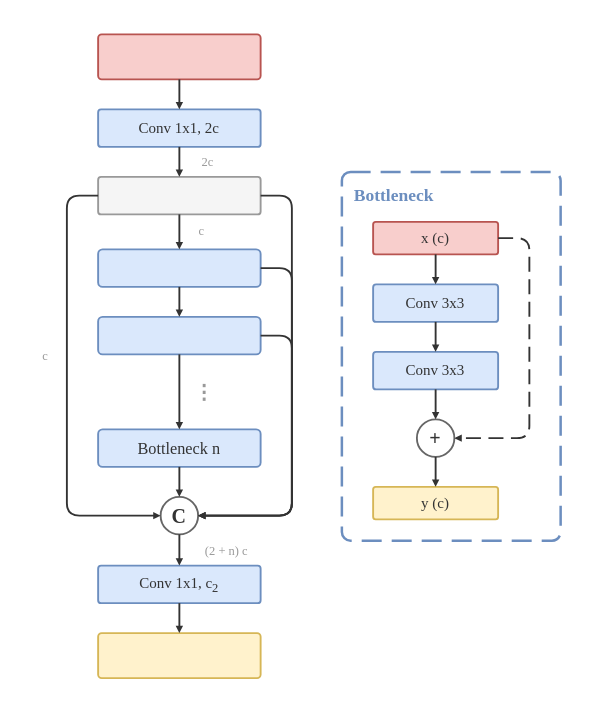
The diagram is 594 pixels wide and 711 high, and some of its shapes have lost their labels. Here are the shapes that lost their labels. From the top down, the centre of each, then its label:
[179,56]: Input c 1 x H x W
[179,195]: Split
[179,267]: Bottleneck 1
[179,335]: Bottleneck 2
[179,655]: Output c 2 x H x W
